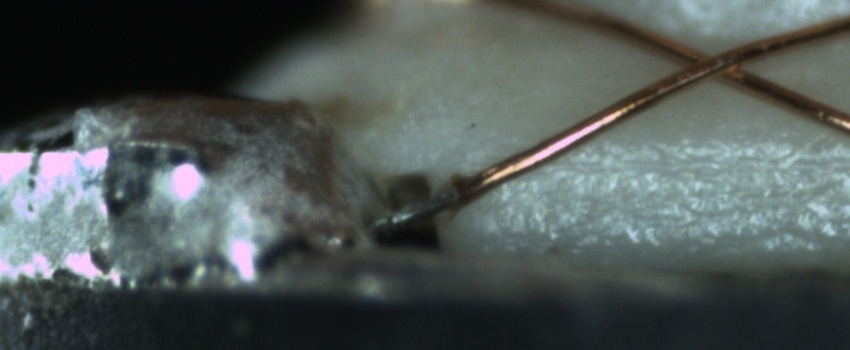CL: (666, 36, 761, 89)
DL: (539, 129, 849, 193)
TS: (368, 189, 461, 234)
TTCW: (377, 177, 485, 232)
